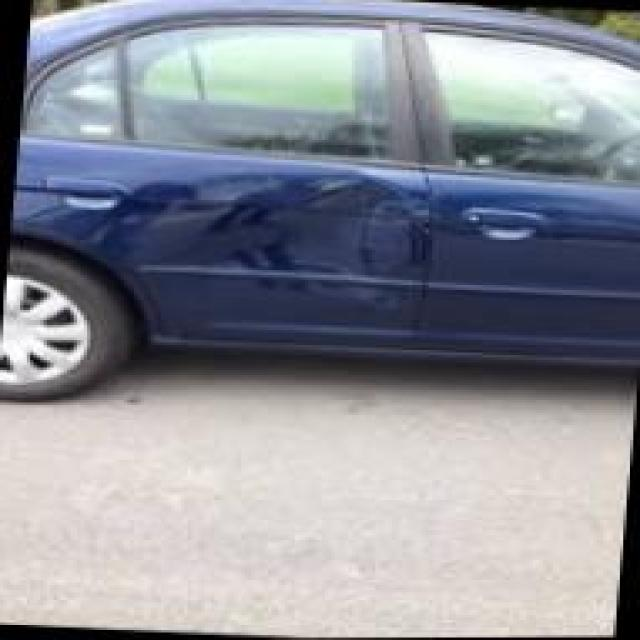Door: (8, 156, 446, 349)
